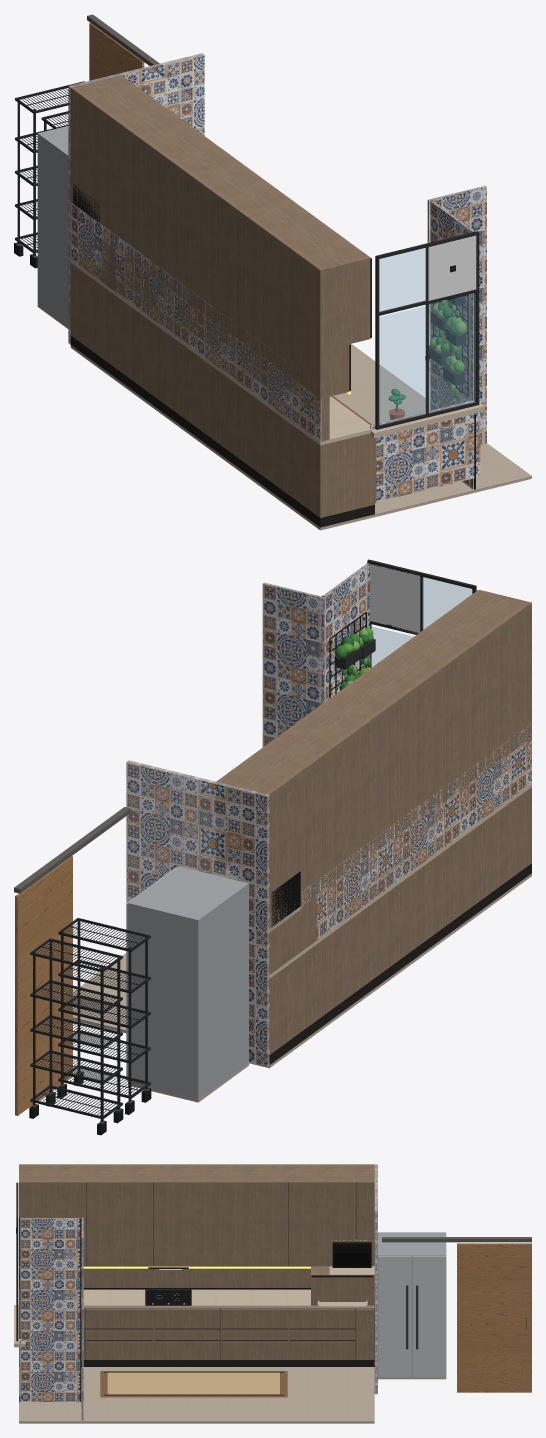
The model's file is source.glb.
3 renders of one model, top to bottom at view 1: azimuth 30°, elevation 25°; view 2: azimuth 150°, elevation 25°; view 3: azimuth 270°, elevation 25°, orthographic. The views are drawn at different scales.
Visible parts, largest first — view 1: east top upper body main, east base carcass, east lower upper body, east 600x1200 patterned tile backsplash, east 4in backsplash slider storage body, floor, north 600x1200 patterned tile wall below window, LG refrigerator body, north window bottom pane 1 sliding, north window bottom pane 0 sliding, south wall return, visible matching 600x1200 patterned tile cladding on shaft f (+12 smaller); view 2: east top upper body main, LG refrigerator body, east base carcass, south wall return, east lower upper body, east 600x1200 patterned tile backsplash, storage sliding cover front, visible matching 600x1200 patterned tile cladding on shaft f, east 4in backsplash slider storage body, visible matching 600x1200 patterned tile cladding on shaft e, north window exhaust housing left-top, floor (+7 smaller); view 3: floor, storage sliding cover front, visible matching 600x1200 patterned tile cladding on shaft e, east top upper body main, east 4in backsplash slider storage body, LG refrigerator west door 1, LG refrigerator west door 2, runner rug inner, east top upper front 1, east top upper front 3, east top upper front 2, east top upper front 4 (+29 smaller).
Part boxes in pixels (x1=…): east top upper body main: x1=70, y1=75, x2=370, y2=351; east base carcass: x1=70, y1=263, x2=374, y2=517; east lower upper body: x1=70, y1=169, x2=349, y2=398; east 600x1200 patterned tile backsplash: x1=70, y1=202, x2=321, y2=441; east 4in backsplash slider storage body: x1=71, y1=228, x2=329, y2=441; floor: x1=70, y1=344, x2=531, y2=530; north 600x1200 patterned tile wall below window: x1=376, y1=412, x2=480, y2=501; LG refrigerator body: x1=37, y1=126, x2=68, y2=326; north window bottom pane 1 sliding: x1=379, y1=306, x2=425, y2=425; north window bottom pane 0 sliding: x1=429, y1=293, x2=475, y2=413; south wall return: x1=68, y1=53, x2=204, y2=344; visible matching 600x1200 patterned tile cladding on shaft f: x1=427, y1=185, x2=486, y2=445; east top upper body main: x1=217, y1=590, x2=531, y2=879; LG refrigerator body: x1=128, y1=866, x2=248, y2=1099; east base carcass: x1=269, y1=787, x2=531, y2=1054; south wall return: x1=126, y1=760, x2=269, y2=1066; east lower upper body: x1=269, y1=688, x2=531, y2=928; east 600x1200 patterned tile backsplash: x1=269, y1=724, x2=531, y2=940; storage sliding cover front: x1=15, y1=856, x2=72, y2=1115; visible matching 600x1200 patterned tile cladding on shaft f: x1=262, y1=582, x2=324, y2=747; east 4in backsplash slider storage body: x1=316, y1=738, x2=531, y2=938; visible matching 600x1200 patterned tile cladding on shaft e: x1=323, y1=563, x2=369, y2=701; north window exhaust housing left-top: x1=370, y1=564, x2=420, y2=633; floor: x1=73, y1=873, x2=531, y2=1068; floor: x1=19, y1=1367, x2=374, y2=1423; storage sliding cover front: x1=457, y1=1243, x2=531, y2=1392; visible matching 600x1200 patterned tile cladding on shaft e: x1=20, y1=1218, x2=80, y2=1401; east top upper body main: x1=19, y1=1164, x2=374, y2=1239; east 4in backsplash slider storage body: x1=19, y1=1266, x2=310, y2=1289; LG refrigerator west door 1: x1=412, y1=1256, x2=445, y2=1376; LG refrigerator west door 2: x1=378, y1=1256, x2=411, y2=1376; runner rug inner: x1=107, y1=1372, x2=279, y2=1394; east top upper front 1: x1=86, y1=1182, x2=153, y2=1239; east top upper front 3: x1=221, y1=1182, x2=288, y2=1239; east top upper front 2: x1=154, y1=1182, x2=220, y2=1239; east top upper front 4: x1=289, y1=1182, x2=355, y2=1239.
Bounding box in the file's own units: 2.32 × 2.74 × 6.91.
Materials: 563 (36 with a texture image).
